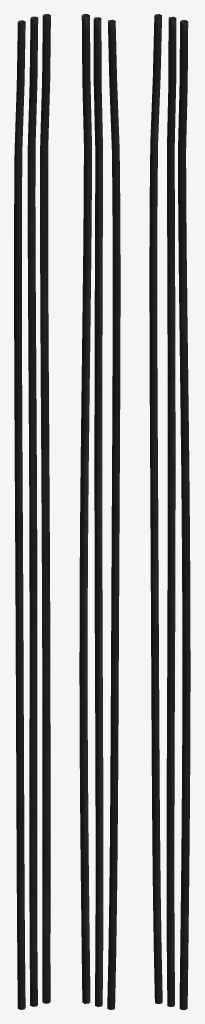
File: ElectricalWires_2.fbx
3 views of the same model, side by side, from view 1: azimuth 30°, elevation 25°; view 2: azimuth 150°, elevation 25°; view 3: azimuth 330°, elevation 25° (orthographic).
Parts seen in each view (by area): view 1: Electrical_Wires_2_LOD0; view 2: Electrical_Wires_2_LOD0; view 3: Electrical_Wires_2_LOD0.
Boxes of the visible parts, box(x1,y1,x2,y2) form: Electrical_Wires_2_LOD0: box(14, 14, 50, 1009); Electrical_Wires_2_LOD0: box(79, 14, 120, 1009); Electrical_Wires_2_LOD0: box(149, 14, 190, 1009).
Size of what is drawn, in the model's own units: 0.2368 by 6 by 0.0709.
